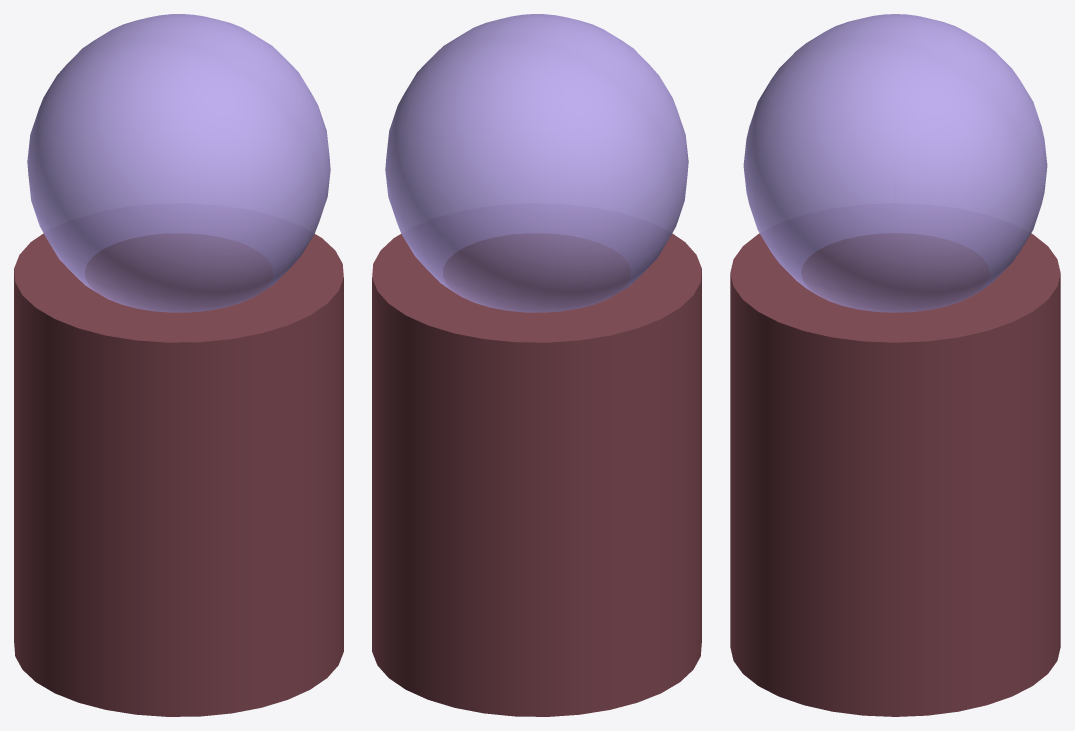
Rendered from InteractiveDevice.fbx.
3 renders of one model, left to right at view 1: azimuth 30°, elevation 25°; view 2: azimuth 150°, elevation 25°; view 3: azimuth 270°, elevation 25°, orthographic.
Visible parts, largest first — view 1: Cylinder, Sphere; view 2: Cylinder, Sphere; view 3: Cylinder, Sphere.
Part boxes in pixels (box(x1,y1,x2,y2)): Cylinder: box(14, 233, 343, 716); Sphere: box(27, 14, 330, 312); Cylinder: box(372, 233, 701, 716); Sphere: box(385, 14, 688, 312); Cylinder: box(730, 233, 1060, 716); Sphere: box(743, 14, 1047, 312).
Bounding box in the file's own units: 40 × 82.71 × 40.
